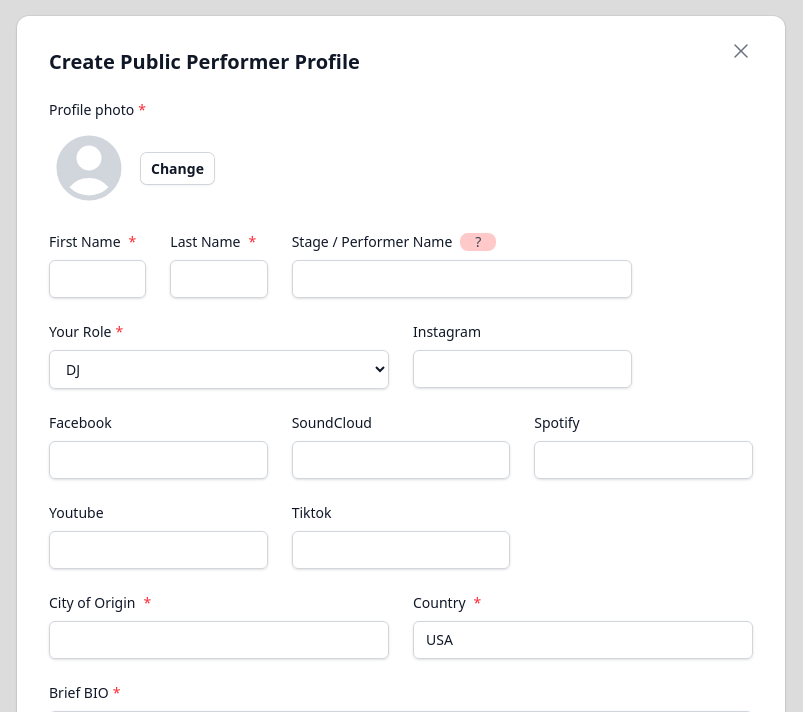
Test case: TalentForm › shows role other input when Other is selected
Select "Other" in the dropdown showing "DJ" at (219, 370), box [49,350,389,389]
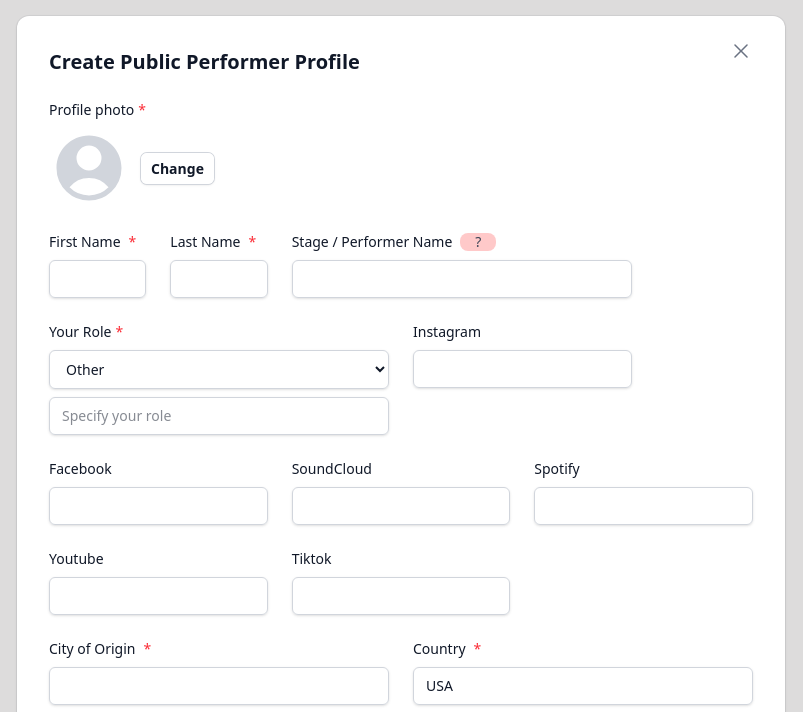
Check: the field with placeholder "Specify your role" is shown, box [49,397,389,435]
